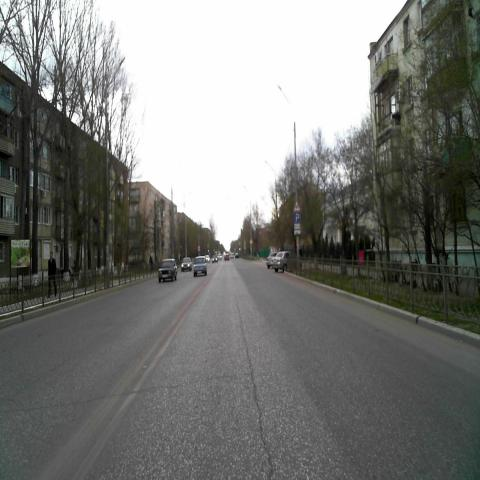6_4: (294, 212, 300, 222)
